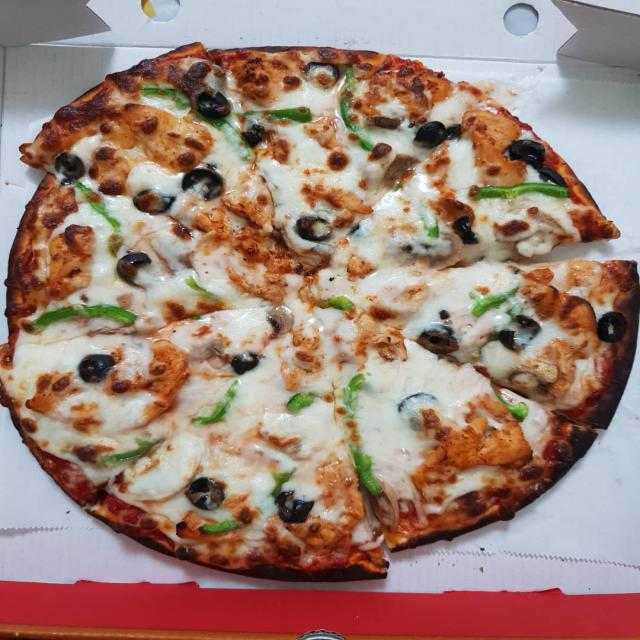black_olives: (499, 314, 541, 350), (182, 168, 224, 202), (418, 324, 460, 355), (188, 476, 225, 511), (275, 491, 314, 524), (398, 392, 440, 420), (78, 354, 115, 384), (305, 60, 341, 90), (133, 188, 174, 214), (195, 89, 231, 118), (508, 140, 545, 168), (118, 252, 152, 281), (296, 216, 332, 242), (598, 311, 627, 342), (414, 122, 446, 150), (54, 154, 85, 180), (454, 215, 479, 246), (536, 166, 569, 188), (231, 353, 260, 375), (241, 124, 266, 149), (446, 124, 461, 140)
pizza: (3, 44, 639, 581)
